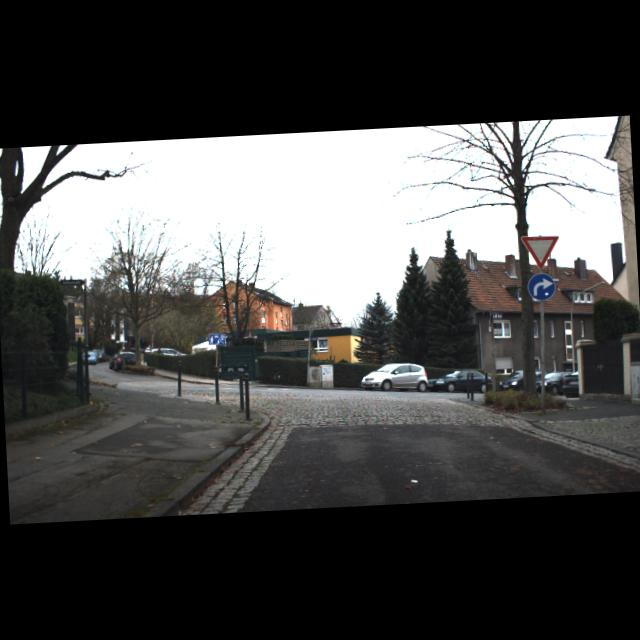mandatory: (528, 273, 556, 302)
other: (520, 235, 560, 272)
